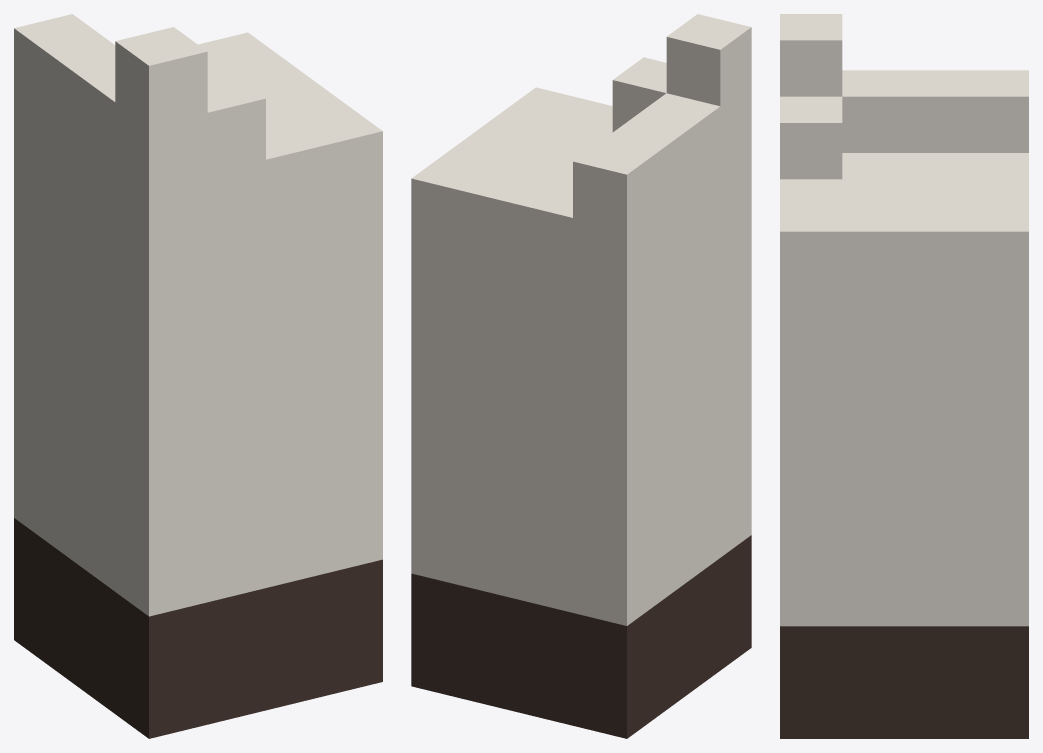
File: cow__leg_fr.glb
3 renders of one model, left to right at view 1: azimuth 30°, elevation 25°; view 2: azimuth 150°, elevation 25°; view 3: azimuth 270°, elevation 25°, orthographic. The views are drawn at different scales.
Parts seen in each view (by area): view 1: cow__leg_fr; view 2: cow__leg_fr; view 3: cow__leg_fr.
Part boxes in pixels (x1,y1,x2,y2): cow__leg_fr: [14, 14, 382, 738]; cow__leg_fr: [411, 14, 751, 738]; cow__leg_fr: [780, 14, 1028, 738].
Size of the model in its own units: 0.4 by 1.1 by 0.4.
1 material, 1 textured.
